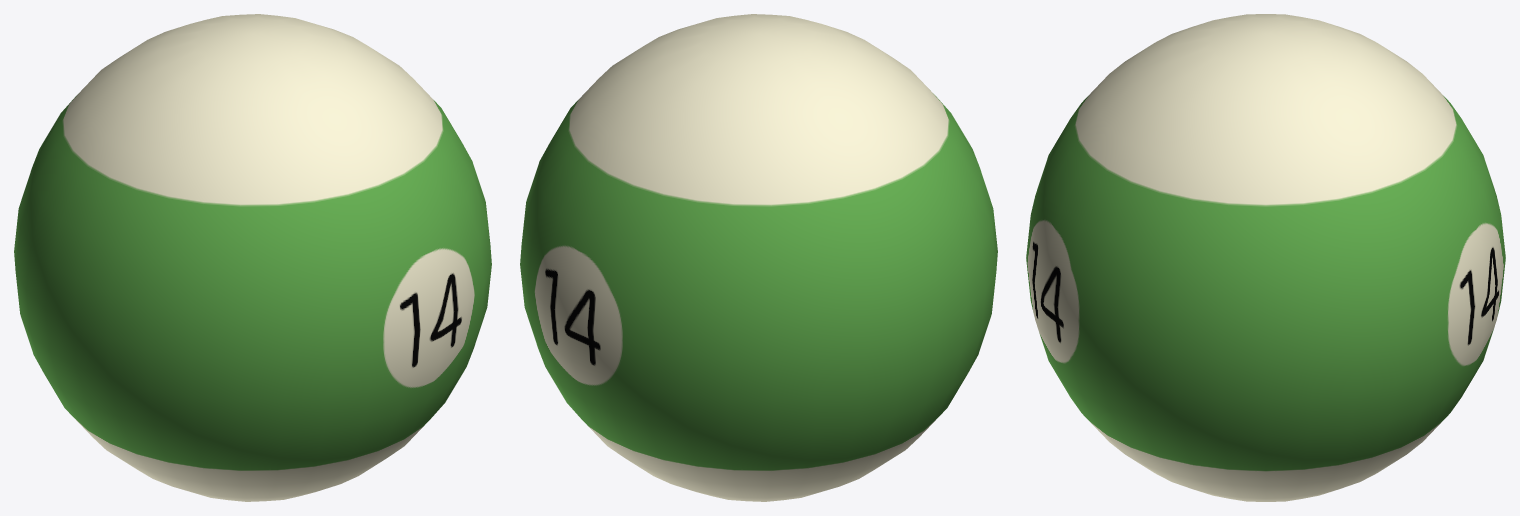
File: ball_14_LOD0.dae
3 renders of one model, left to right at view 1: azimuth 30°, elevation 25°; view 2: azimuth 150°, elevation 25°; view 3: azimuth 270°, elevation 25°, orthographic.
Visible parts, largest first — view 1: ball_14_LOD0; view 2: ball_14_LOD0; view 3: ball_14_LOD0.
Part boxes in pixels (left/top/right/bottom): ball_14_LOD0: left=14, top=14, right=491, bottom=501; ball_14_LOD0: left=520, top=14, right=997, bottom=501; ball_14_LOD0: left=1026, top=14, right=1505, bottom=501.
Size of the model in its own units: 5.5 by 5.67 by 5.5.
